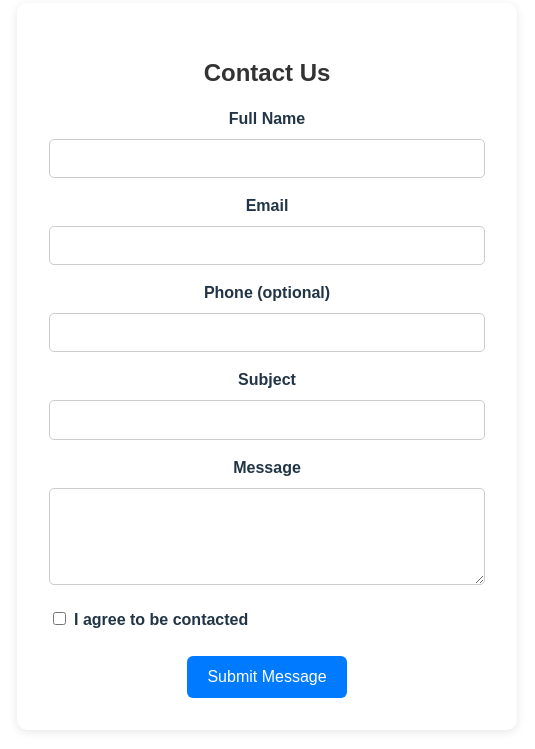
Scenario: ContactForm › shows error if email already exists
In the field labelled "Full Name": x=267, y=158 [49, 139, 485, 178], type "Jane"
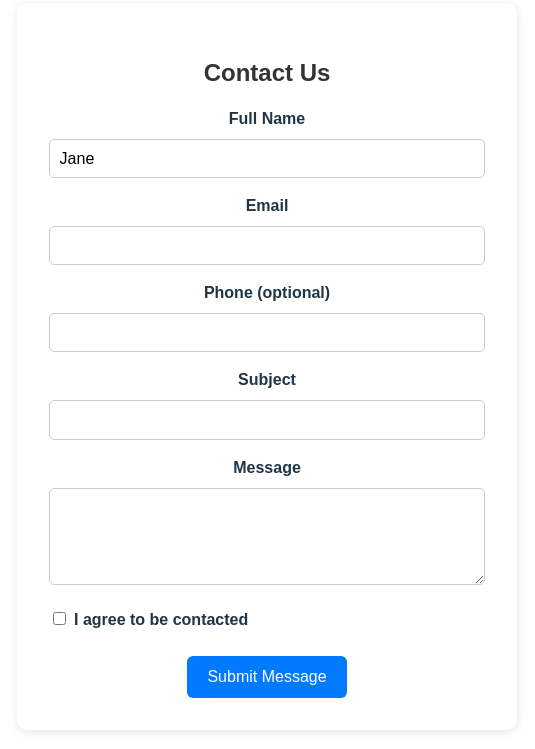
In the field labelled "Email": x=267, y=246 [49, 226, 485, 265], type "jane@example.com"
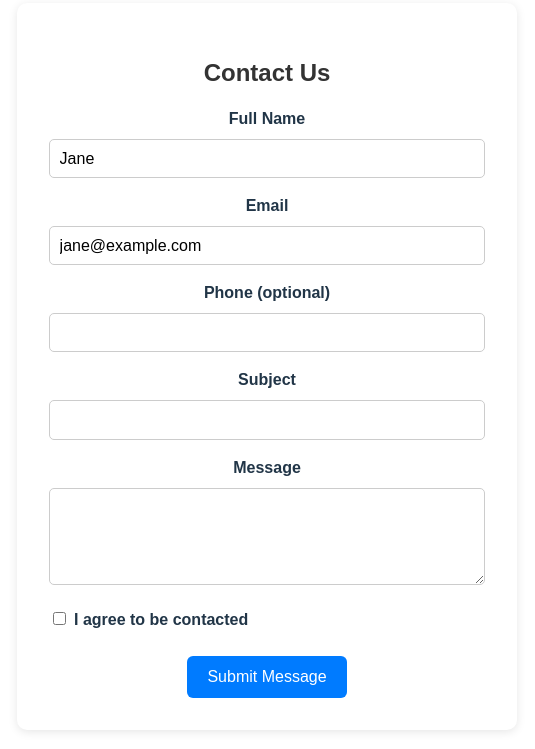
In the field labelled "Subject": x=267, y=420 [49, 400, 485, 440], type "Help"
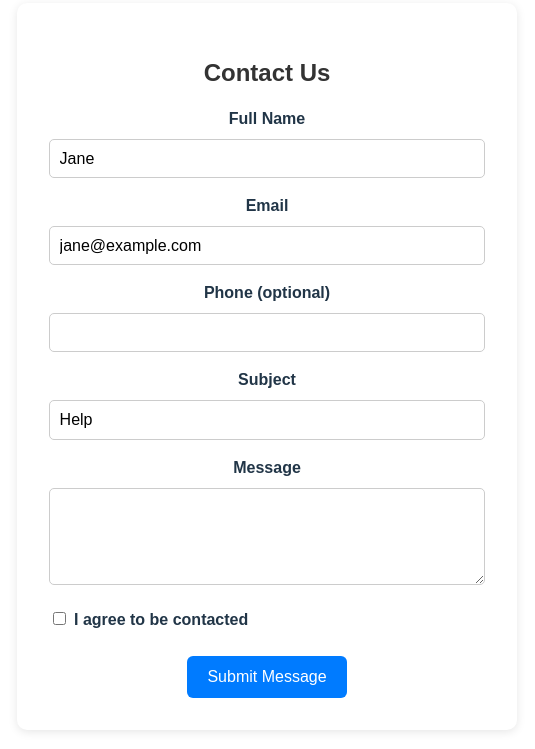
In the text box labelled "Message": x=267, y=536 [49, 488, 485, 585], type "This is a message"
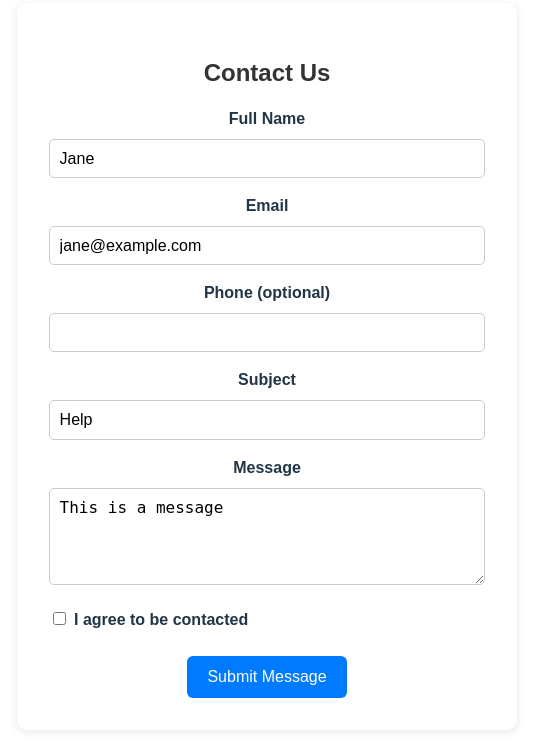
Click the checkbox with test id "consent": x=60, y=618 [53, 612, 66, 625]
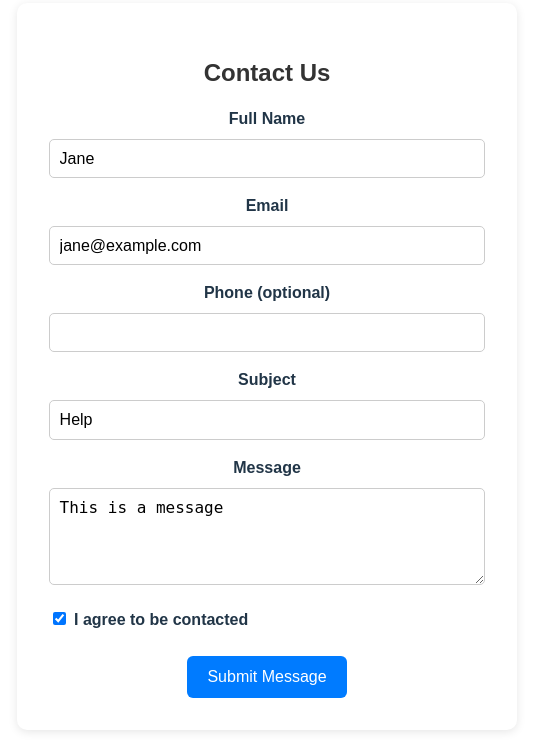
Click the button "Submit Message": x=267, y=677 [187, 656, 347, 698]
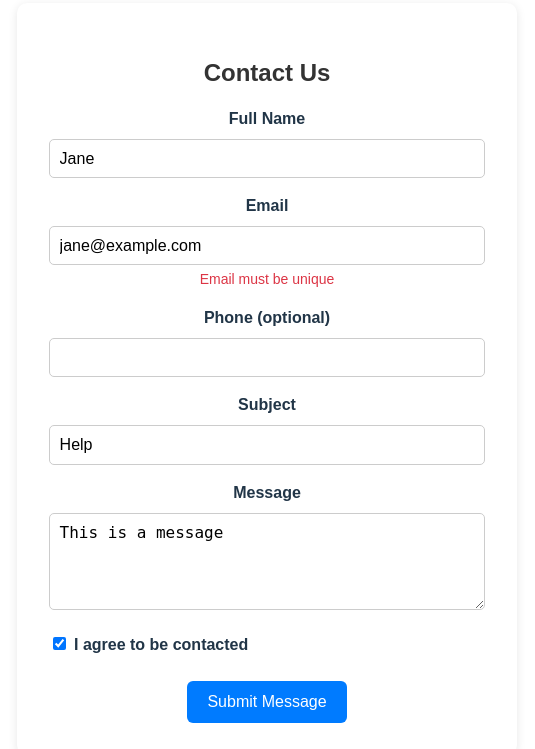
Now the text "Email must be unique" is shown, box [200, 271, 334, 287]
